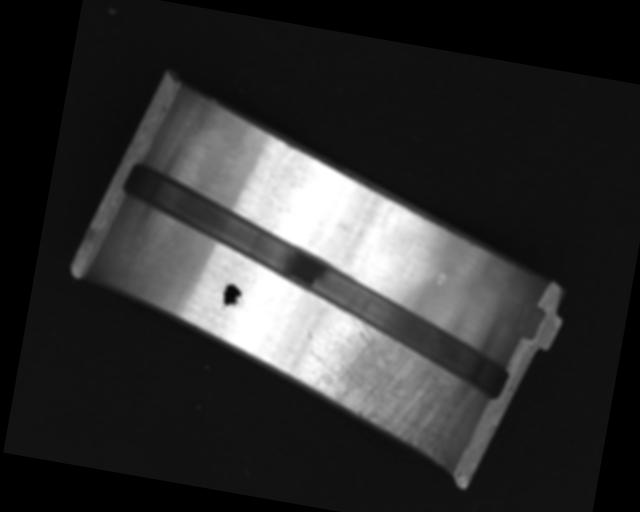blot: (218, 281, 246, 313)
bruise: (435, 272, 446, 288)
gap: (96, 161, 531, 399)
nick: (246, 169, 268, 221)
scratch: (291, 305, 470, 459)
